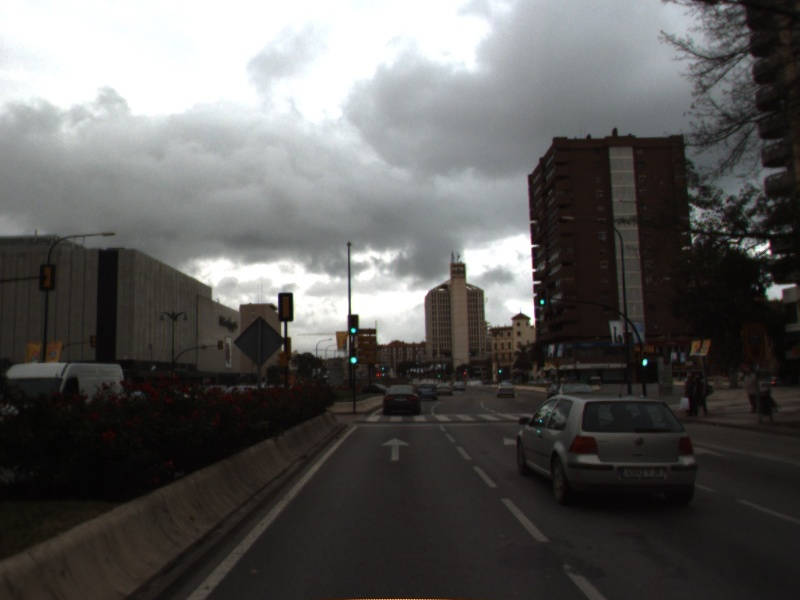STRAIGHT: (379, 435, 412, 463)
